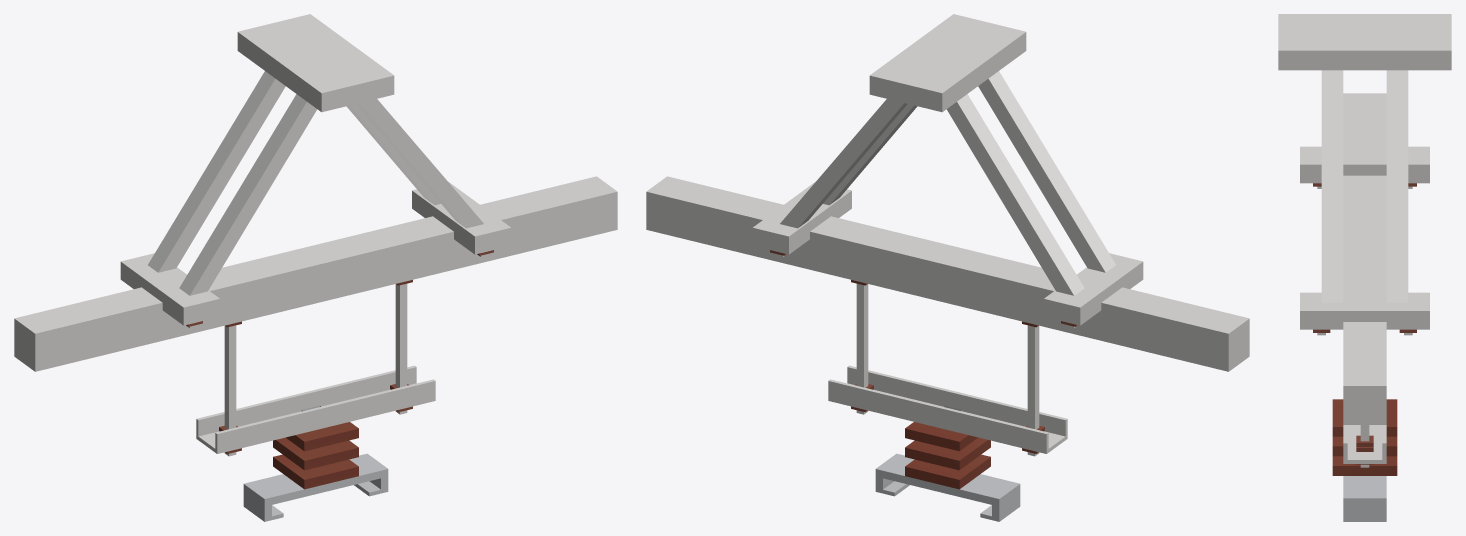
Rendered from catenary_rigid_node_only.obj.
3 renders of one model, left to right at view 1: azimuth 30°, elevation 25°; view 2: azimuth 150°, elevation 25°; view 3: azimuth 270°, elevation 25°, orthographic. The views are drawn at different scales.
Parts seen in each view (by area): view 1: rigid_catenary_node.002; view 2: rigid_catenary_node.002; view 3: rigid_catenary_node.002.
Part boxes in pixels (x1,y1,x2,y2): rigid_catenary_node.002: (14, 14, 617, 521); rigid_catenary_node.002: (646, 14, 1249, 521); rigid_catenary_node.002: (1278, 14, 1451, 521).
Bounding box in the file's own units: 1 × 0.7309 × 0.25.
1 material, 1 textured.
